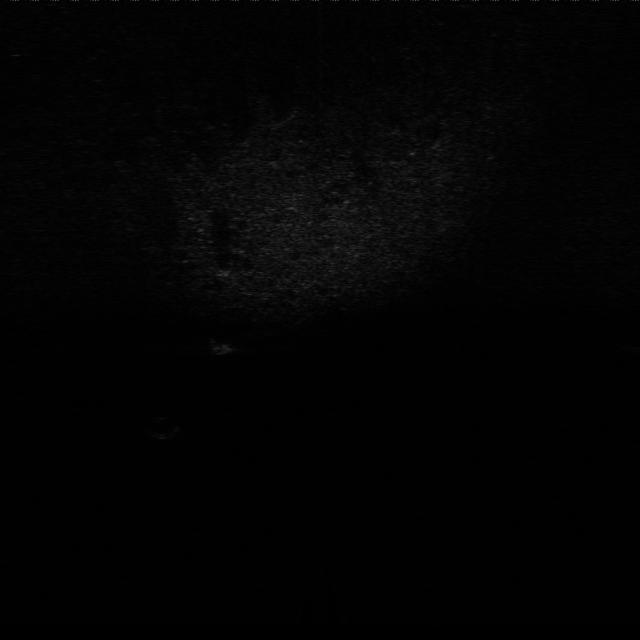ball: (147, 413, 182, 443)
cube: (211, 337, 238, 358)
